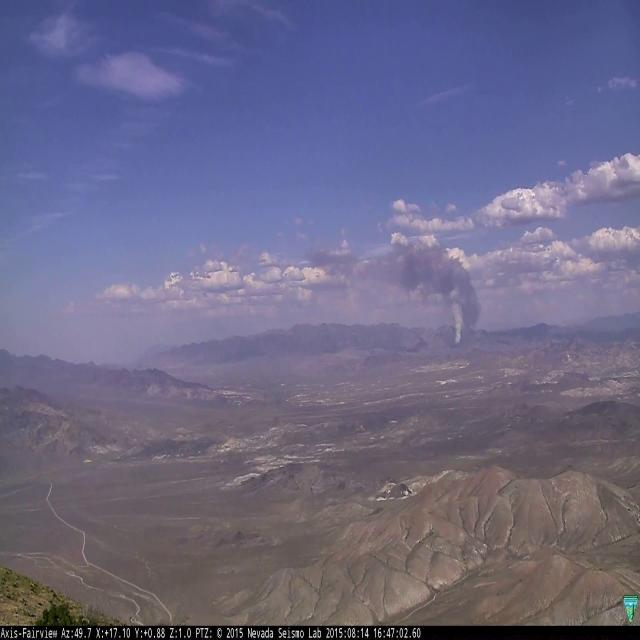smoke: (303, 245, 482, 346)
